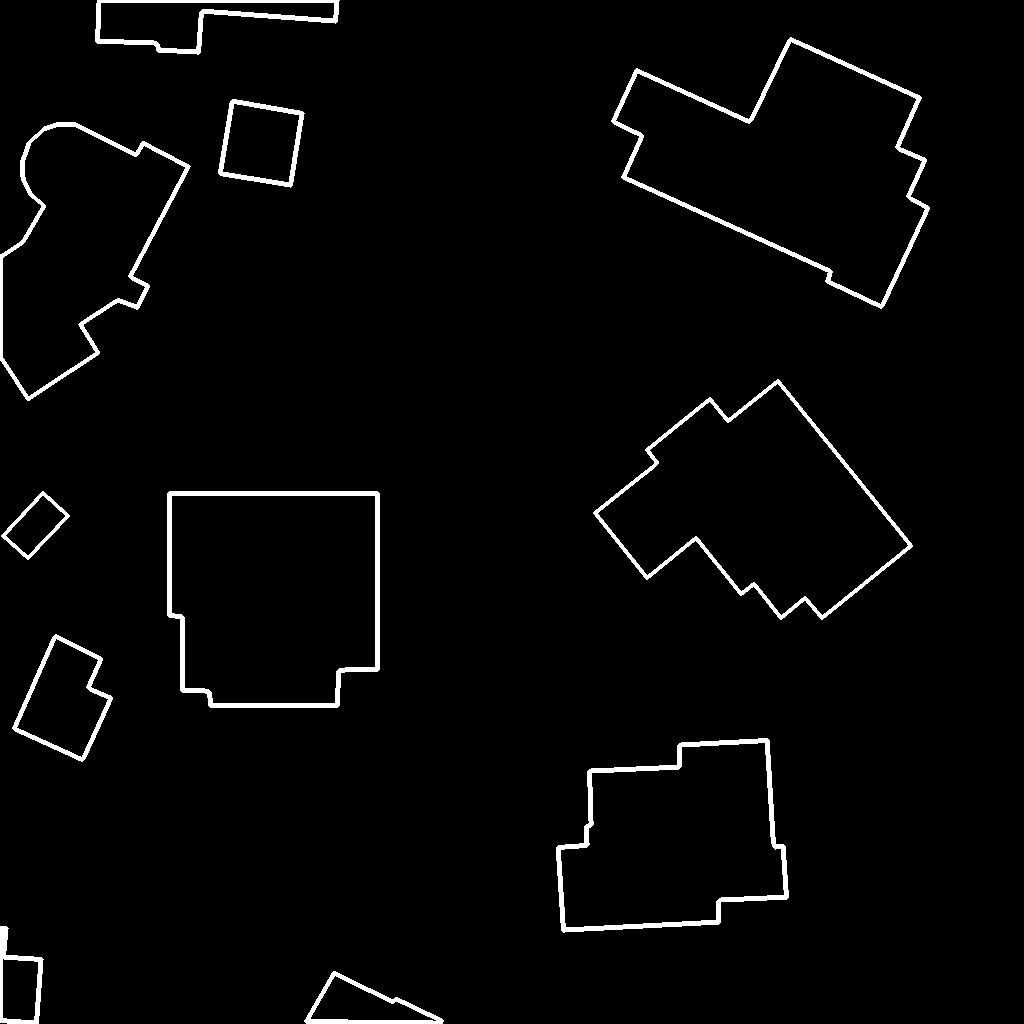building: (613, 39, 929, 308), (595, 381, 912, 619), (0, 124, 190, 400), (169, 493, 378, 706), (558, 740, 788, 931), (97, 0, 338, 53), (14, 636, 112, 761), (220, 101, 303, 186), (306, 973, 443, 1024), (3, 493, 69, 559), (0, 928, 42, 1024)
